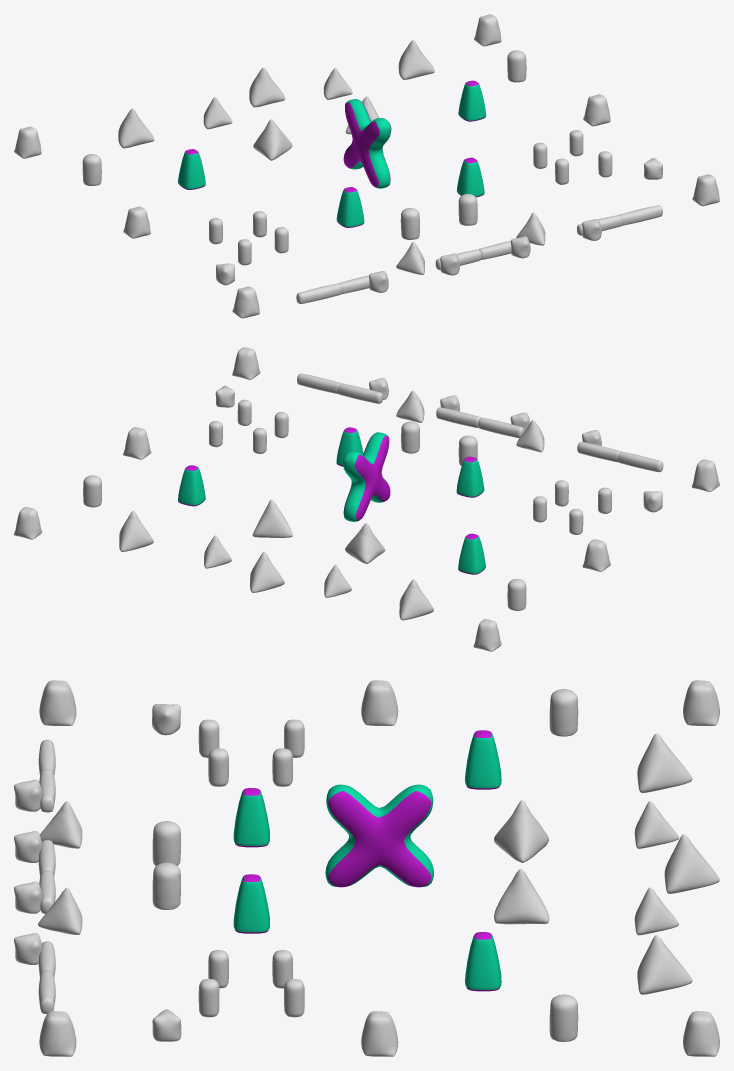
Rendered from 2009_PSP_Event 1 Phx.fbx.
3 renders of one model, top to bottom at view 1: azimuth 30°, elevation 25°; view 2: azimuth 150°, elevation 25°; view 3: azimuth 270°, elevation 25°, orthographic. The views are drawn at different scales.
Parts seen in each view (by area): view 1: Can_S.008; view 2: Can_S.008; view 3: Can_S.008.
Part boxes in pixels (x1,y1,x2,y2): Can_S.008: (14, 14, 719, 318); Can_S.008: (14, 347, 719, 651); Can_S.008: (14, 680, 719, 1056).
Bounding box in the file's own units: 3666 × 488 × 3156.
